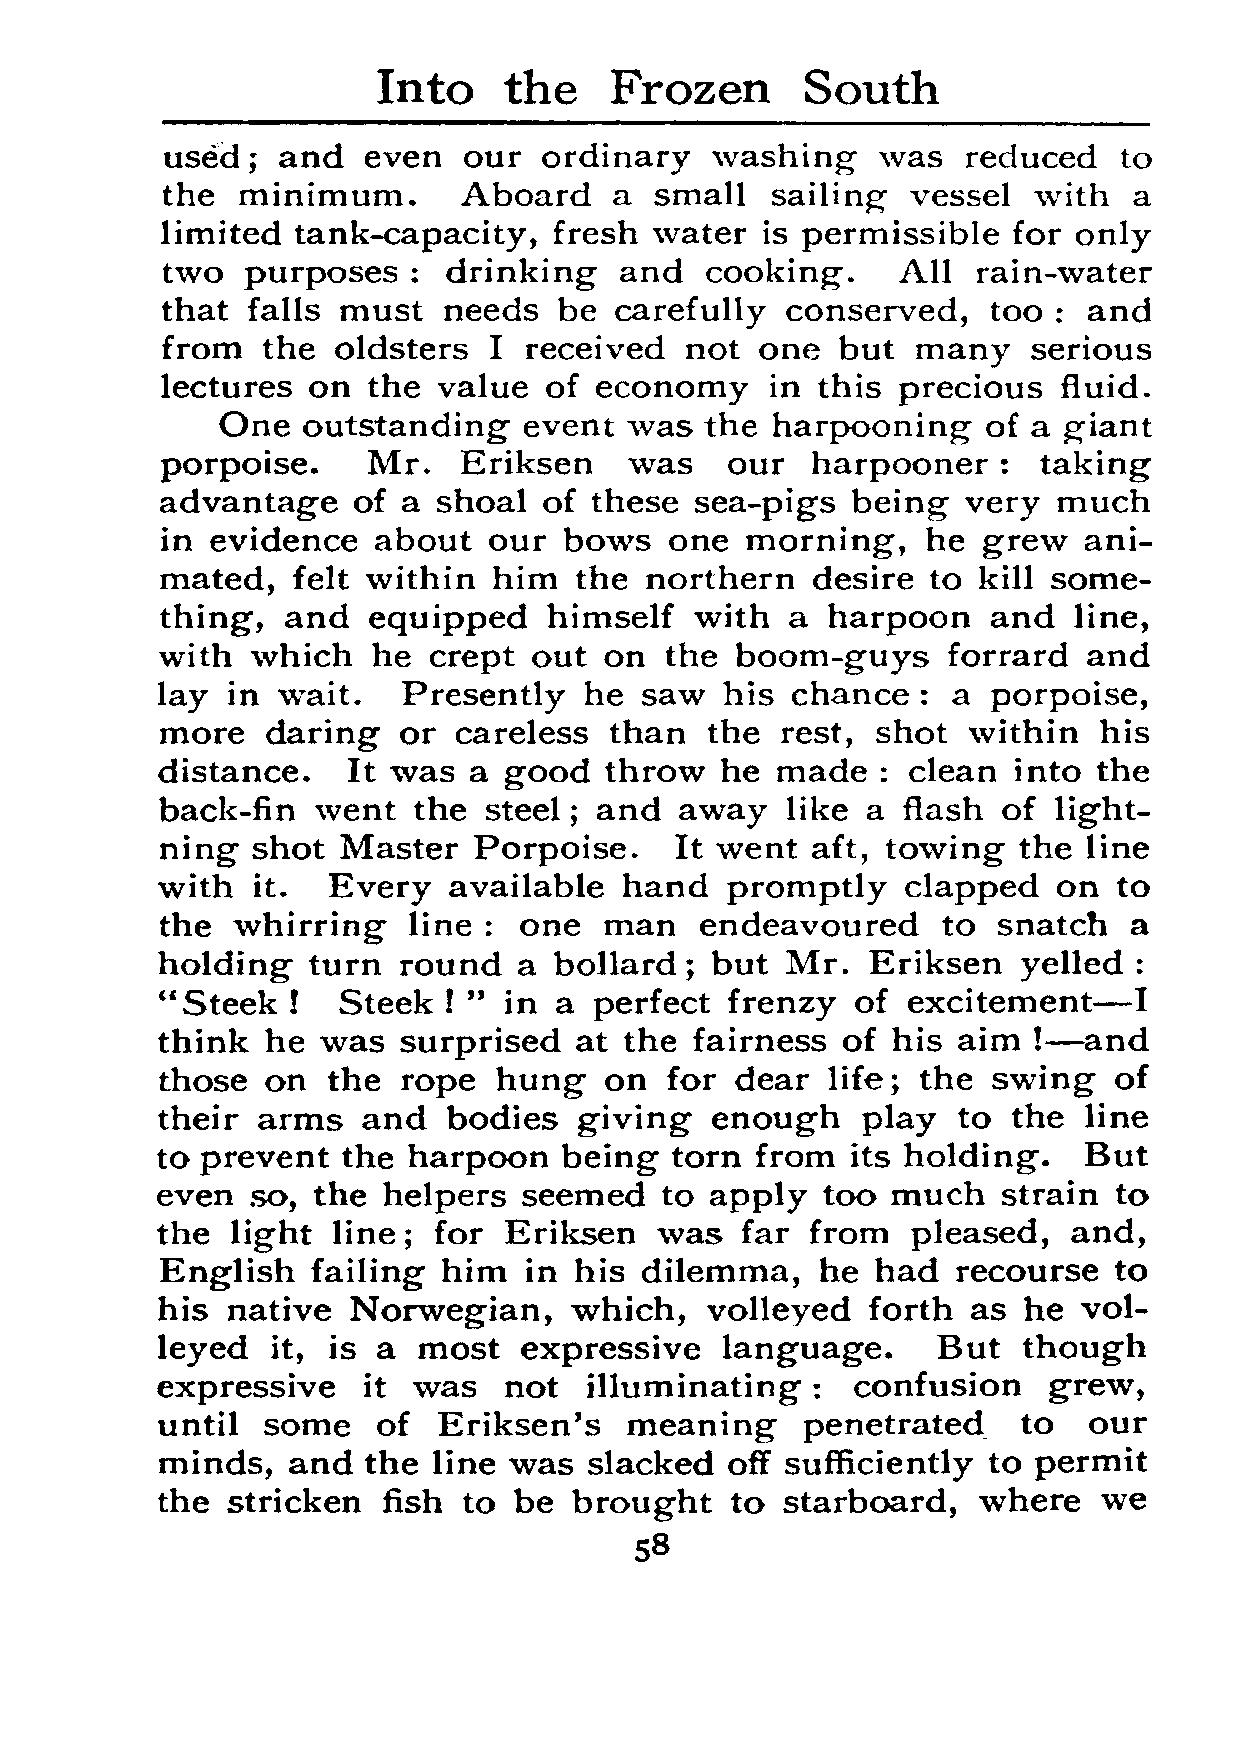chapter: (376, 60, 934, 107)
content: (157, 138, 1153, 1525)
content_pagenumber: (625, 1531, 675, 1567)
